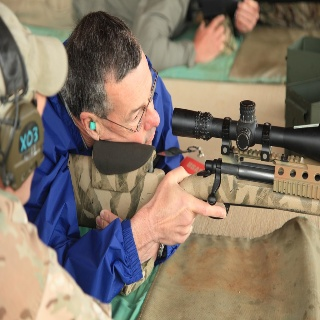shotgun: (67, 98, 320, 230)
